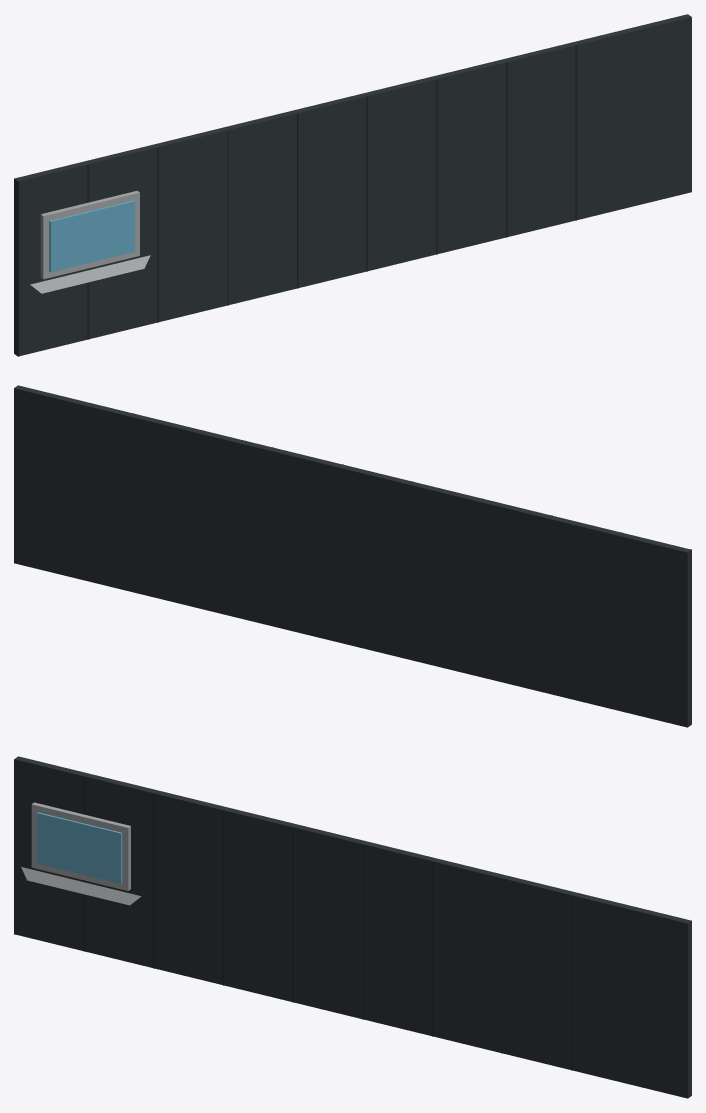
The model's file is bang_sua_may_minh_32.glb.
3 renders of one model, top to bottom at view 1: azimuth 30°, elevation 25°; view 2: azimuth 150°, elevation 25°; view 3: azimuth 330°, elevation 25°, orthographic.
Parts seen in each view (by area): view 1: bang_sua_may_minh_32; view 2: bang_sua_may_minh_32; view 3: bang_sua_may_minh_32.
Boxes of the visible parts, x1,y1,x2,y2 form: bang_sua_may_minh_32: (14, 14, 691, 356); bang_sua_may_minh_32: (14, 385, 691, 727); bang_sua_may_minh_32: (14, 756, 691, 1098).
Size of the model in its own units: 2.9 by 0.72 by 0.07.
